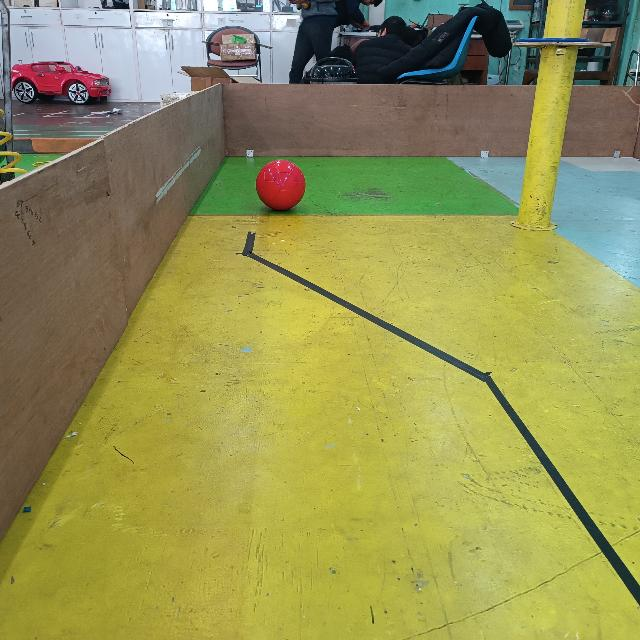R: (256, 158, 306, 212)
